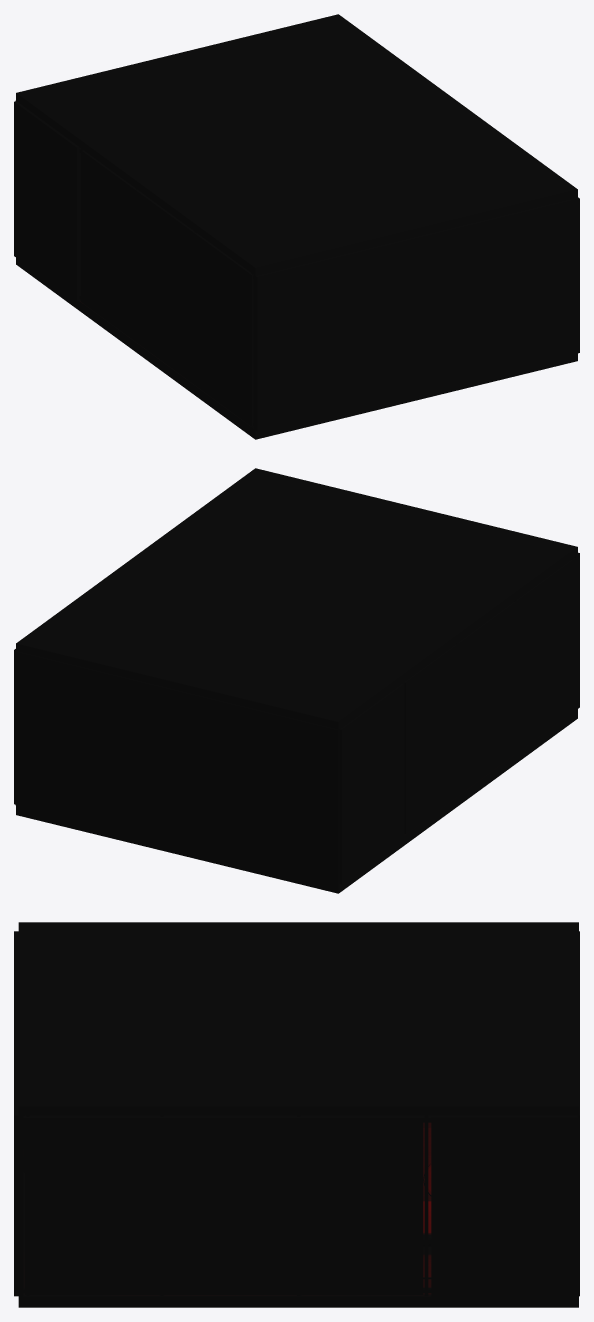
Rendered from lounge.glb.
3 renders of one model, top to bottom at view 1: azimuth 30°, elevation 25°; view 2: azimuth 150°, elevation 25°; view 3: azimuth 270°, elevation 25°, orthographic. The views are drawn at different scales.
Parts seen in each view (by area): view 1: Ceiling, RearWall, WindowLeft, DarkScreenBufferLeft, Floor; view 2: Ceiling, FeatureWall, WindowLeft, DarkScreenBufferLeft, Floor, RearWall; view 3: Ceiling, WindowRight, DarkScreenBufferRight, Floor, RearWall, WindowMullionRight.003, FeatureWall, Rug.
Boxes of the visible parts, x1,y1,x2,y2 form: Ceiling: [16, 14, 577, 275]; RearWall: [253, 197, 579, 431]; WindowLeft: [81, 150, 253, 426]; DarkScreenBufferLeft: [14, 101, 80, 301]; Floor: [16, 258, 577, 439]; Ceiling: [16, 468, 577, 729]; FeatureWall: [15, 651, 339, 884]; WindowLeft: [404, 558, 575, 833]; DarkScreenBufferLeft: [339, 683, 404, 884]; Floor: [16, 709, 577, 893]; RearWall: [574, 552, 579, 710]; Ceiling: [18, 922, 578, 1115]; WindowRight: [25, 1117, 423, 1294]; DarkScreenBufferRight: [431, 1115, 577, 1297]; Floor: [18, 1122, 578, 1307]; RearWall: [14, 931, 23, 1296]; WindowMullionRight.003: [424, 1115, 428, 1295]; FeatureWall: [577, 931, 579, 1296]; Rug: [423, 1128, 431, 1278].
Size of the model in its own units: 7.12 by 3.56 by 9.09.
Materials: 4 (3 with a texture image).
